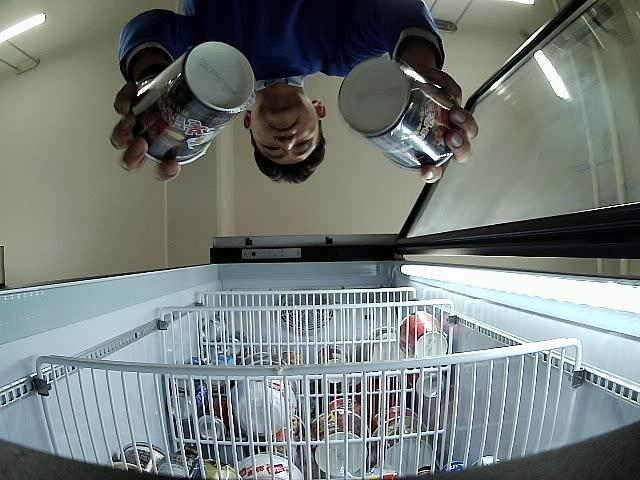08_buldak_S: (129, 41, 255, 164), (338, 57, 459, 170)
